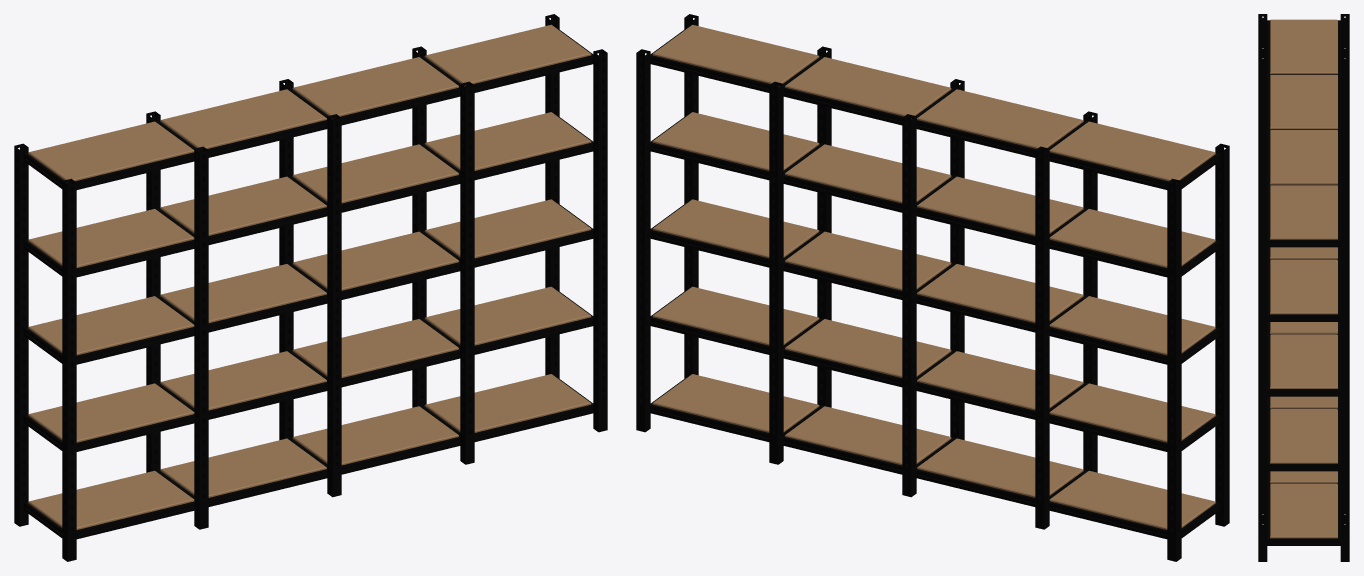
File: Stand 4.fbx
The picture shows the model from 3 angles, left to right: view 1: azimuth 30°, elevation 25°; view 2: azimuth 150°, elevation 25°; view 3: azimuth 270°, elevation 25°; orthographic projection. The views are drawn at different scales.
Visible parts, largest first — view 1: Stand 4; view 2: Stand 4; view 3: Stand 4.
Part boxes in pixels (box(x1,y1,x2,y2)): Stand 4: box(14, 14, 607, 561); Stand 4: box(636, 14, 1229, 561); Stand 4: box(1258, 14, 1349, 561).
Size of the model in its own units: 300 by 200 by 51.23.
